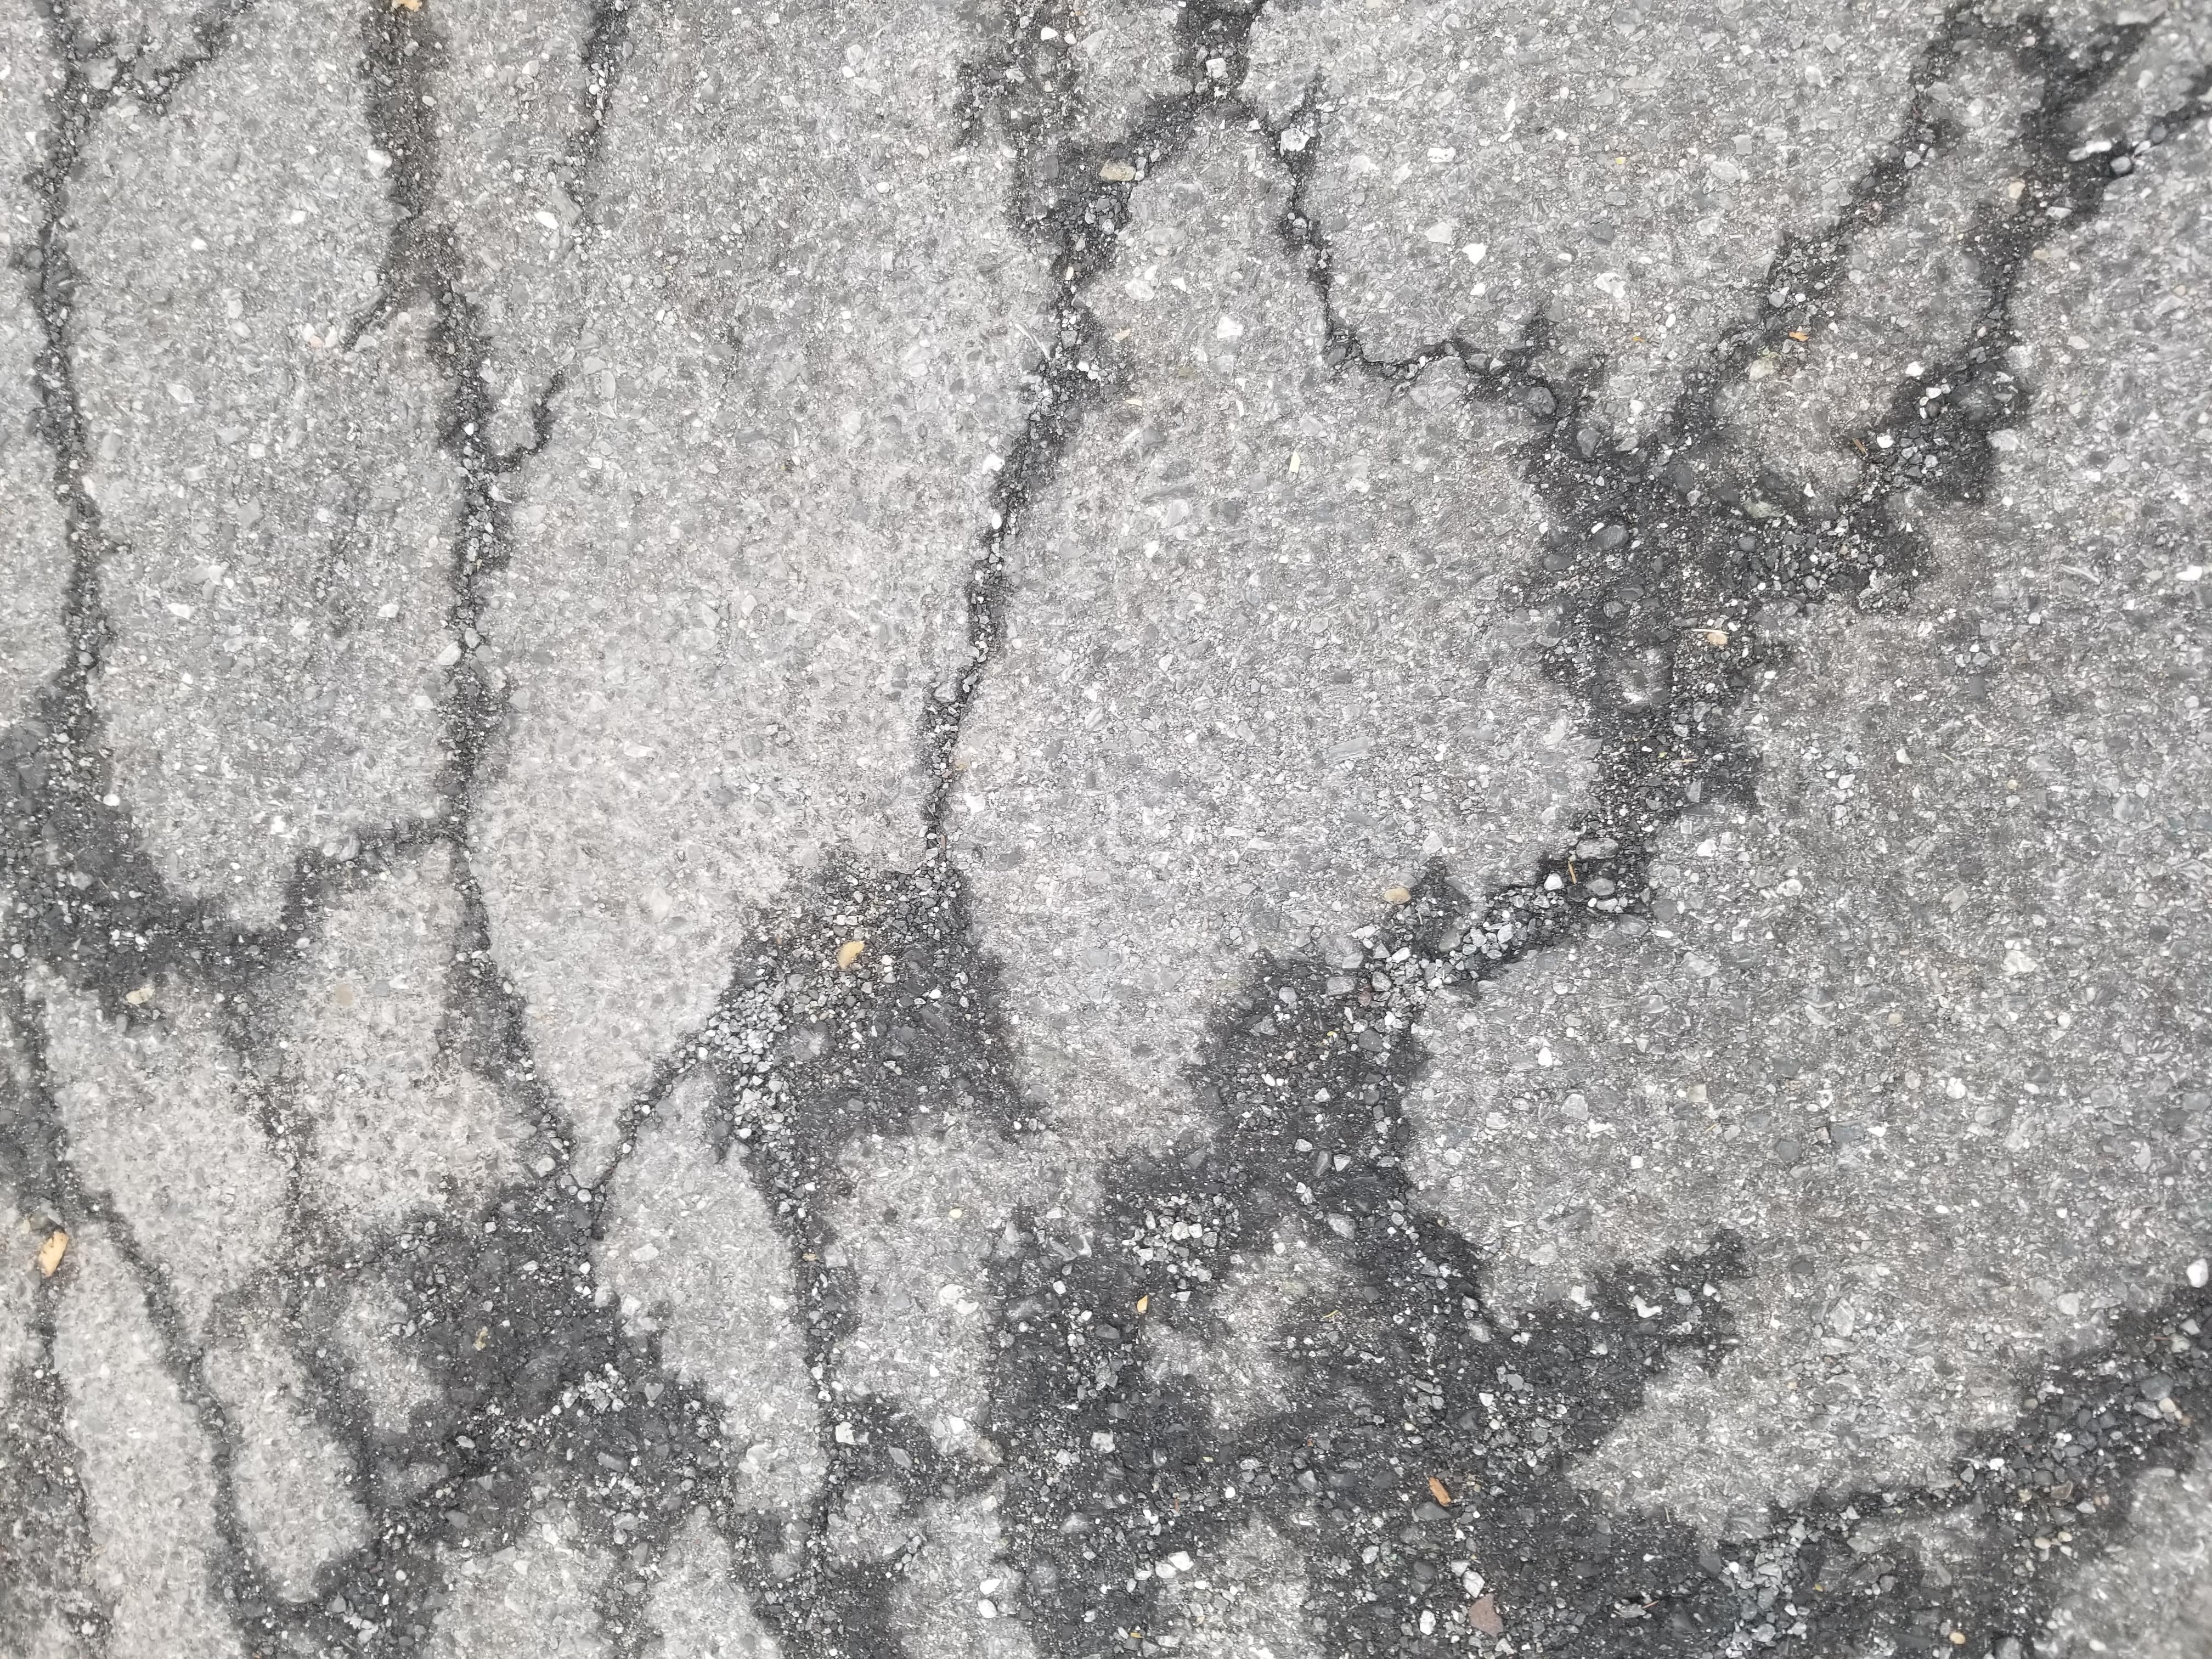alligator-crack: (0, 0, 1369, 556), (0, 678, 1003, 1182)
crack: (1339, 1351, 2156, 1591), (1172, 704, 1928, 847), (1522, 289, 2212, 399), (1501, 17, 2210, 96), (1642, 929, 1808, 1248)
